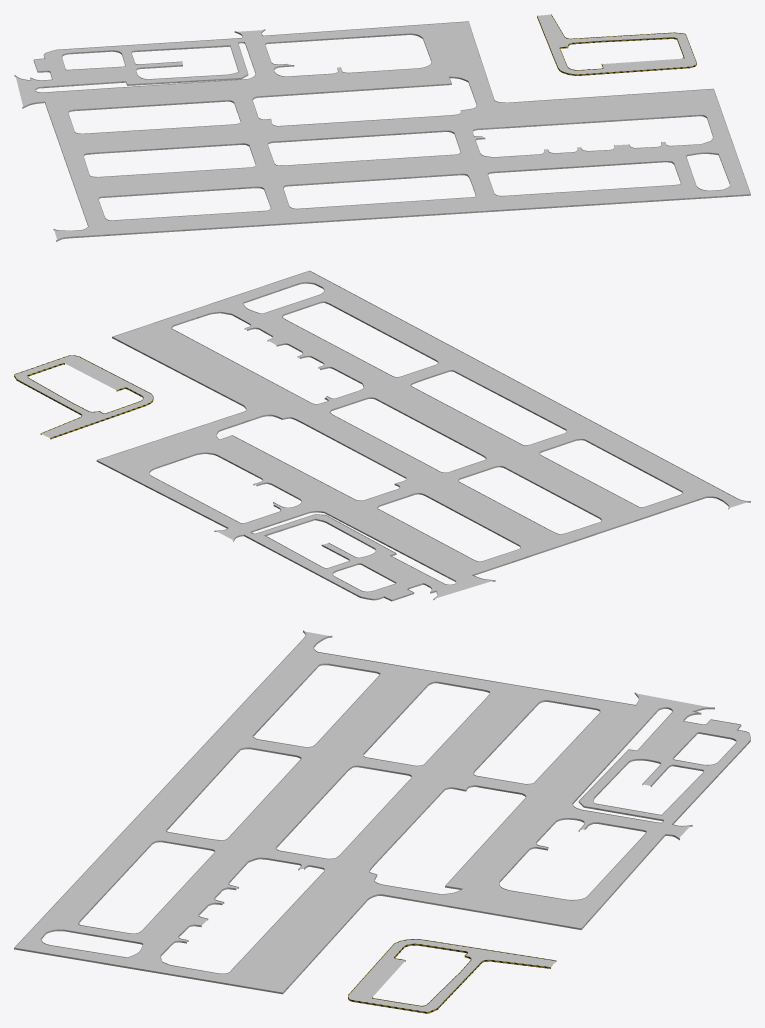
File: road_p01_03.fbx
3 renders of one model, top to bottom at view 1: azimuth 30°, elevation 25°; view 2: azimuth 150°, elevation 25°; view 3: azimuth 270°, elevation 25°, orthographic. The views are drawn at different scales.
Visible parts, largest first — view 1: road_p01_03; view 2: road_p01_03; view 3: road_p01_03.
Part boxes in pixels (left/top/right/bottom): road_p01_03: left=14, top=14, right=750, bottom=241; road_p01_03: left=14, top=270, right=750, bottom=601; road_p01_03: left=14, top=630, right=750, bottom=1013.
Size of the model in its own units: 34325 by 70 by 27994.
